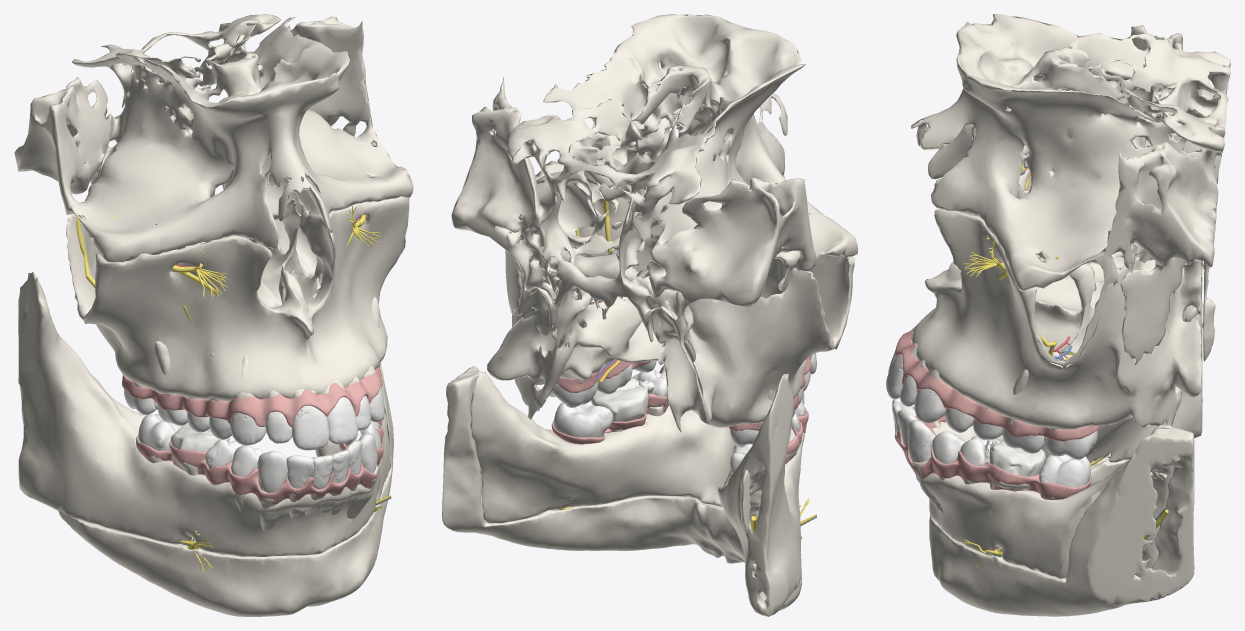
The model's file is dentition.glb.
3 renders of one model, left to right at view 1: azimuth 30°, elevation 25°; view 2: azimuth 150°, elevation 25°; view 3: azimuth 270°, elevation 25°, orthographic. The views are drawn at different scales.
Parts seen in each view (by area): view 1: FMA53649M, FMA53649, FMA52748, FMA52748M, FMA59763, FMA59764, FMA55681-enamel, FMA55682-enamel, FMA55686-enamel, FMA55706-enamel, FMA55705, FMA55798-enamel (+7 smaller); view 2: FMA53649M, FMA53649, FMA52748, FMA52748M, FMA55703-enamel, FMA55704, FMA59764, FMA59763, FMA55700-enamel, FMA55692-enamel; view 3: FMA53649M, FMA53649, FMA52748M, FMA52748, FMA59763, FMA59764, FMA55703-enamel, FMA55704, FMA55687-enamel, FMA55700-enamel, FMA55799-enamel, FMA55693-enamel (+4 smaller).
Part boxes in pixels (x1,y1,x2,y2): FMA53649M: (14, 14, 413, 299); FMA53649: (66, 155, 409, 401); FMA52748: (18, 272, 390, 556); FMA52748M: (58, 362, 393, 616); FMA59763: (121, 363, 383, 426); FMA59764: (136, 421, 383, 504); FMA55681-enamel: (291, 405, 329, 450); FMA55682-enamel: (327, 397, 358, 444); FMA55686-enamel: (257, 451, 287, 492); FMA55706-enamel: (138, 414, 188, 450); FMA55705: (171, 424, 218, 452); FMA55798-enamel: (230, 413, 266, 445); FMA53649M: (451, 14, 857, 424); FMA53649: (486, 175, 854, 432); FMA52748: (470, 372, 804, 616); FMA52748M: (442, 366, 802, 610); FMA55703-enamel: (553, 400, 613, 437); FMA55704: (591, 377, 648, 421); FMA59764: (551, 393, 808, 476); FMA59763: (556, 355, 811, 431); FMA55700-enamel: (549, 381, 597, 407); FMA55692-enamel: (632, 369, 667, 406); FMA53649M: (911, 14, 1230, 368); FMA53649: (912, 162, 1202, 429); FMA52748M: (929, 298, 1215, 616); FMA52748: (904, 268, 1202, 578); FMA59763: (895, 328, 1098, 441); FMA59764: (894, 407, 1091, 499); FMA55703-enamel: (1039, 454, 1091, 487); FMA55704: (989, 440, 1045, 476); FMA55687-enamel: (908, 420, 935, 462); FMA55700-enamel: (1046, 430, 1097, 459); FMA55799-enamel: (914, 388, 946, 423); FMA55693-enamel: (932, 431, 964, 463).
Bounding box in the file's own units: 87.88 × 136 × 80.25.
